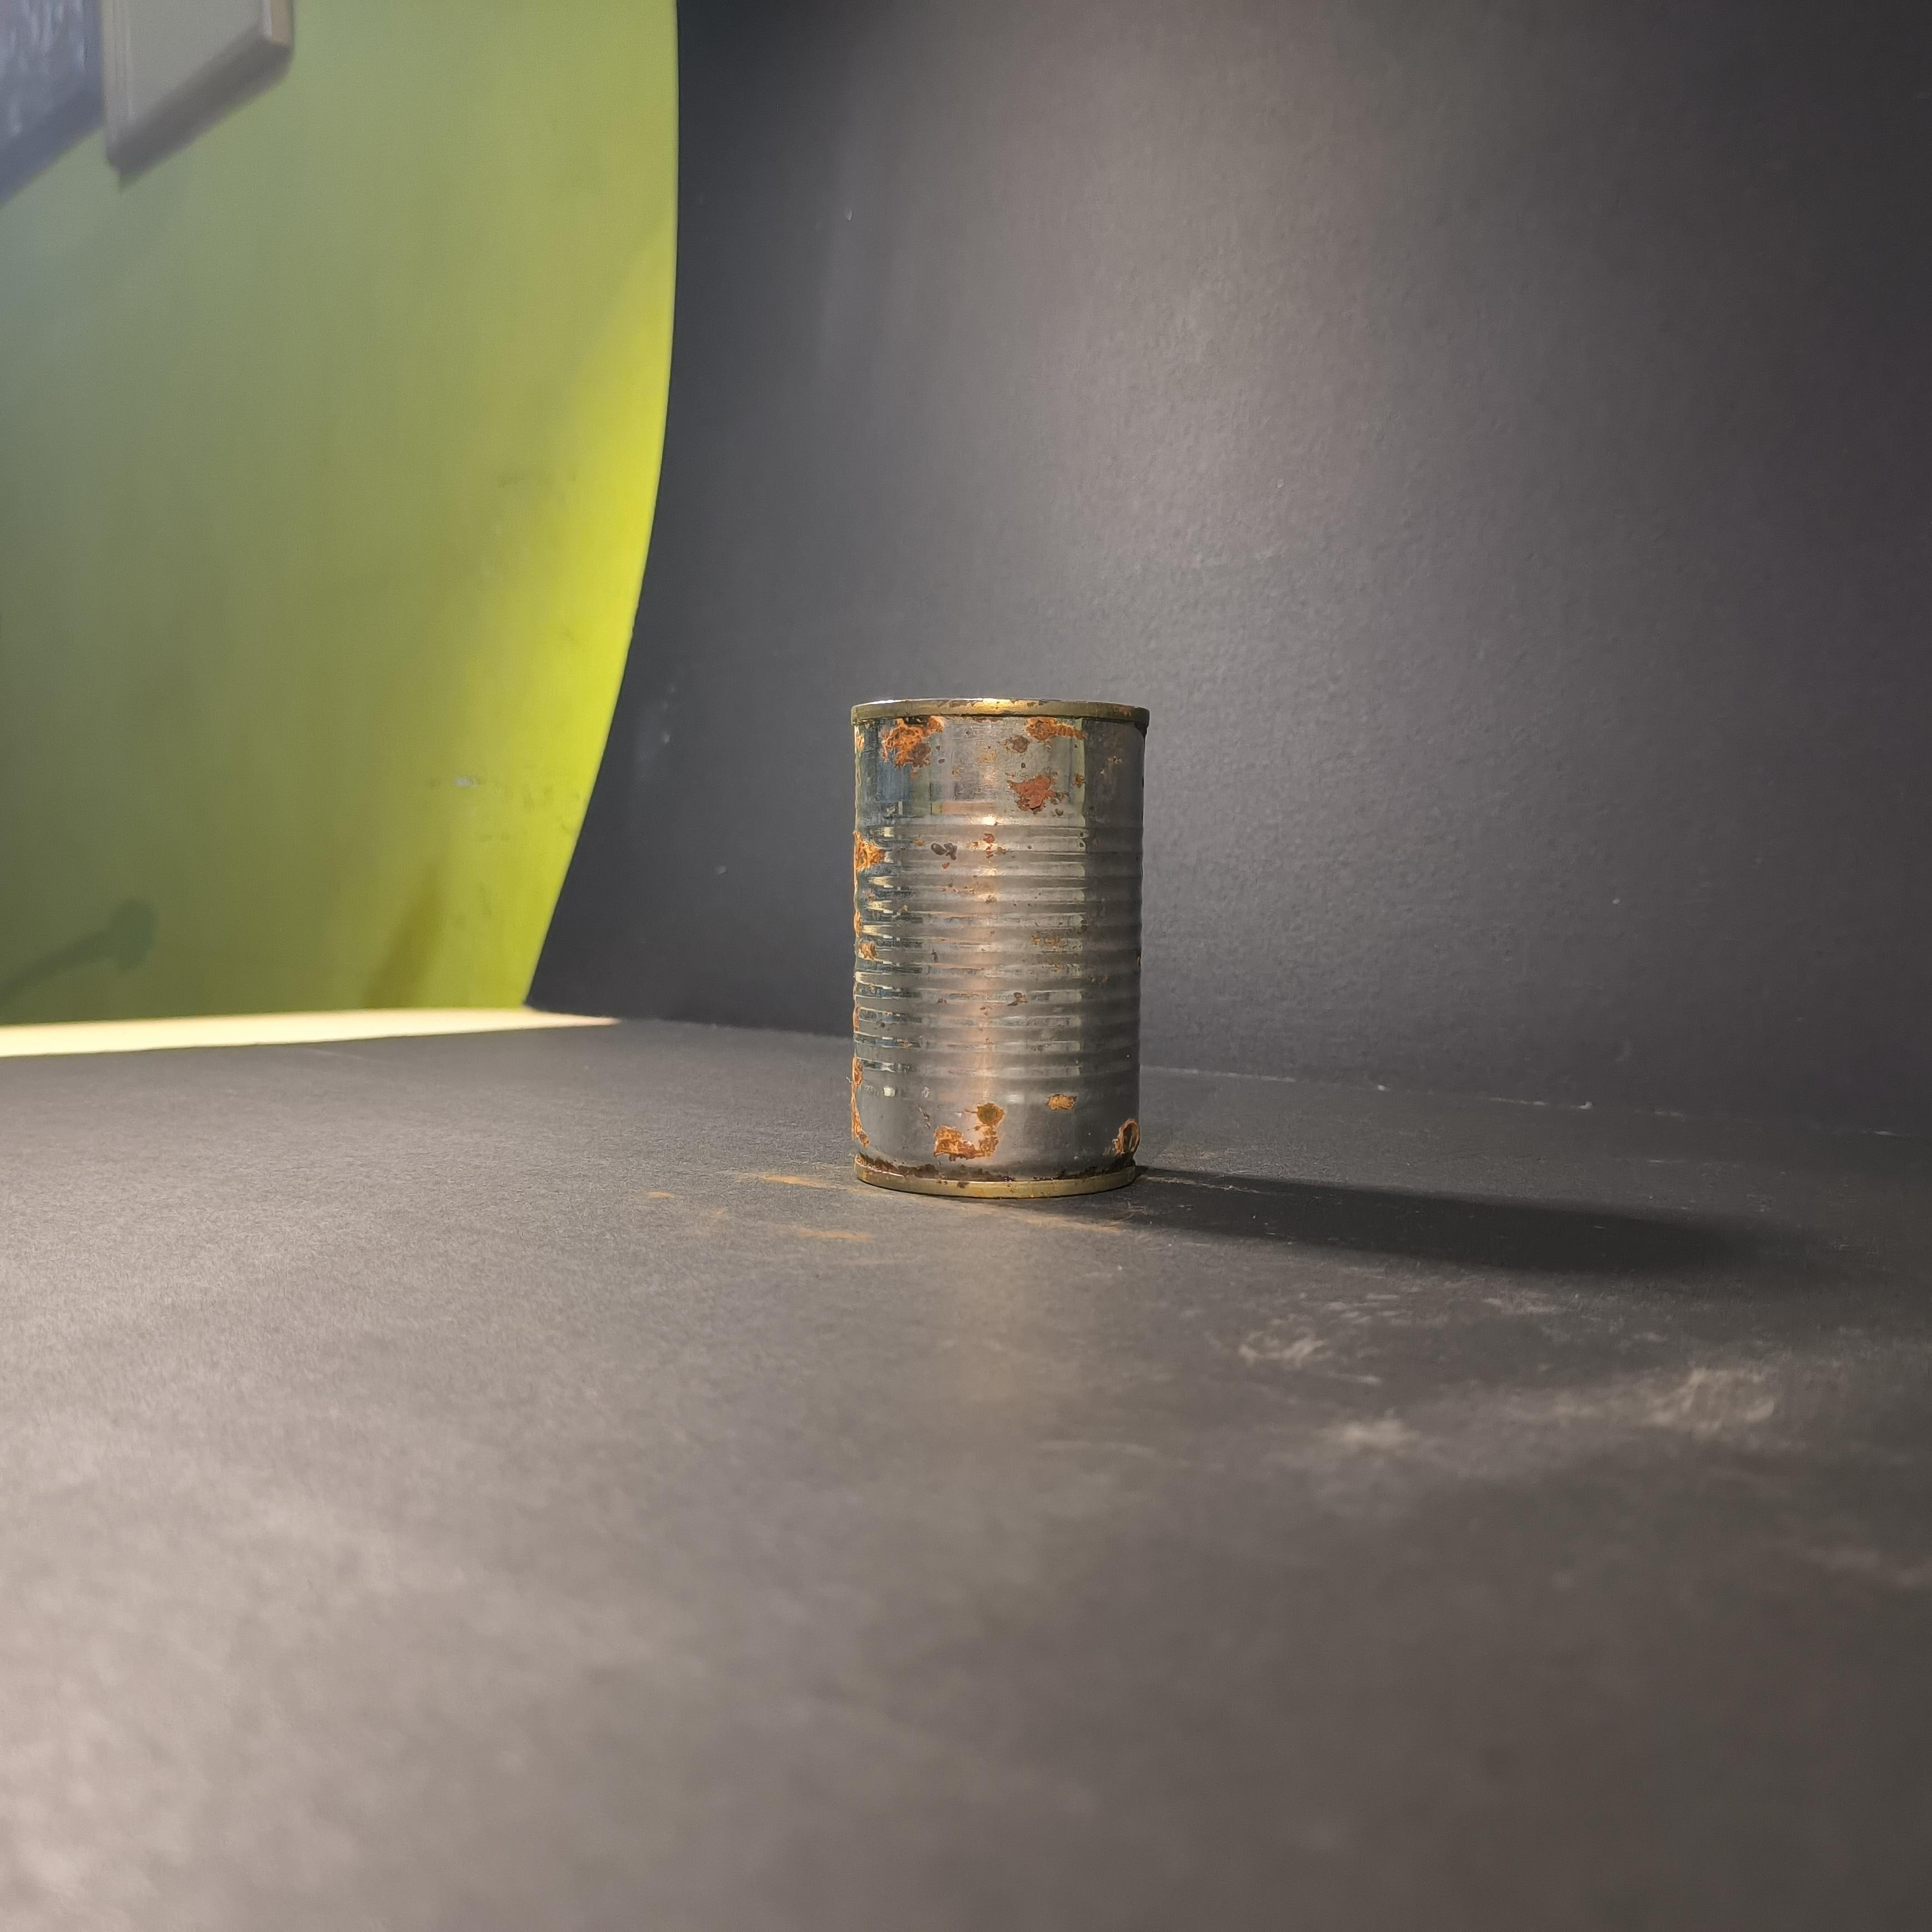Rusted: (823, 671, 1157, 1219)
